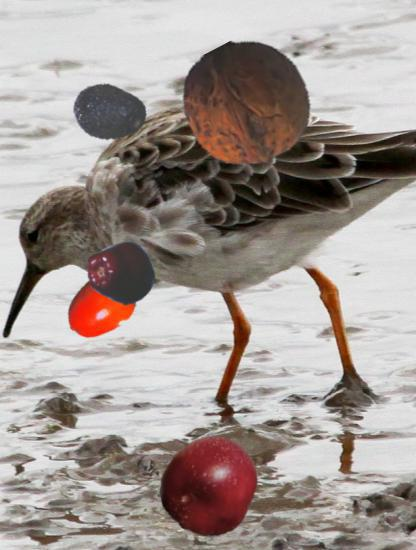Apple: (87, 240, 156, 309)
Avocado: (75, 77, 147, 149)
Kaki: (64, 272, 136, 344)
Nectarine: (159, 435, 261, 537)
Walnut: (183, 41, 310, 168)
